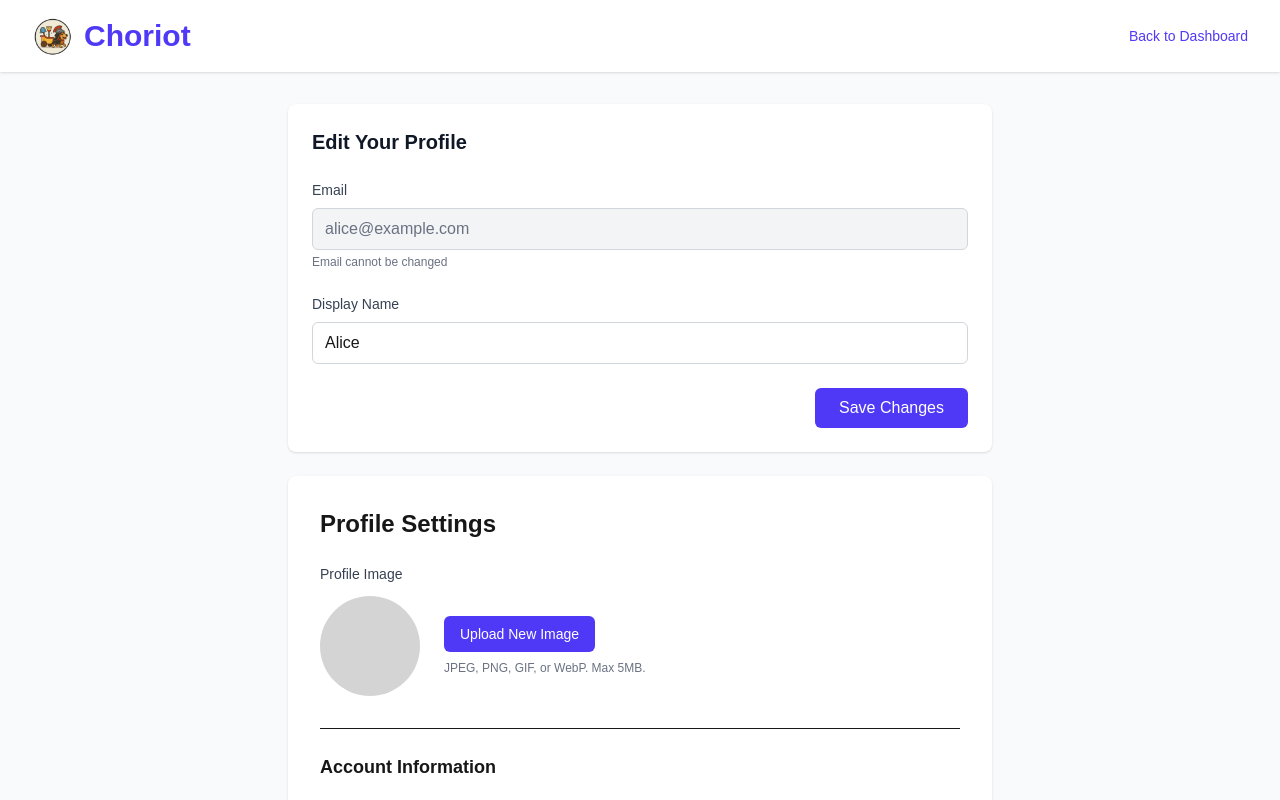
ProfileClient › should submit null when name is empty
Clear the field labelled "Display Name" at (640, 343), box x1=312 y1=322 x2=968 y2=364
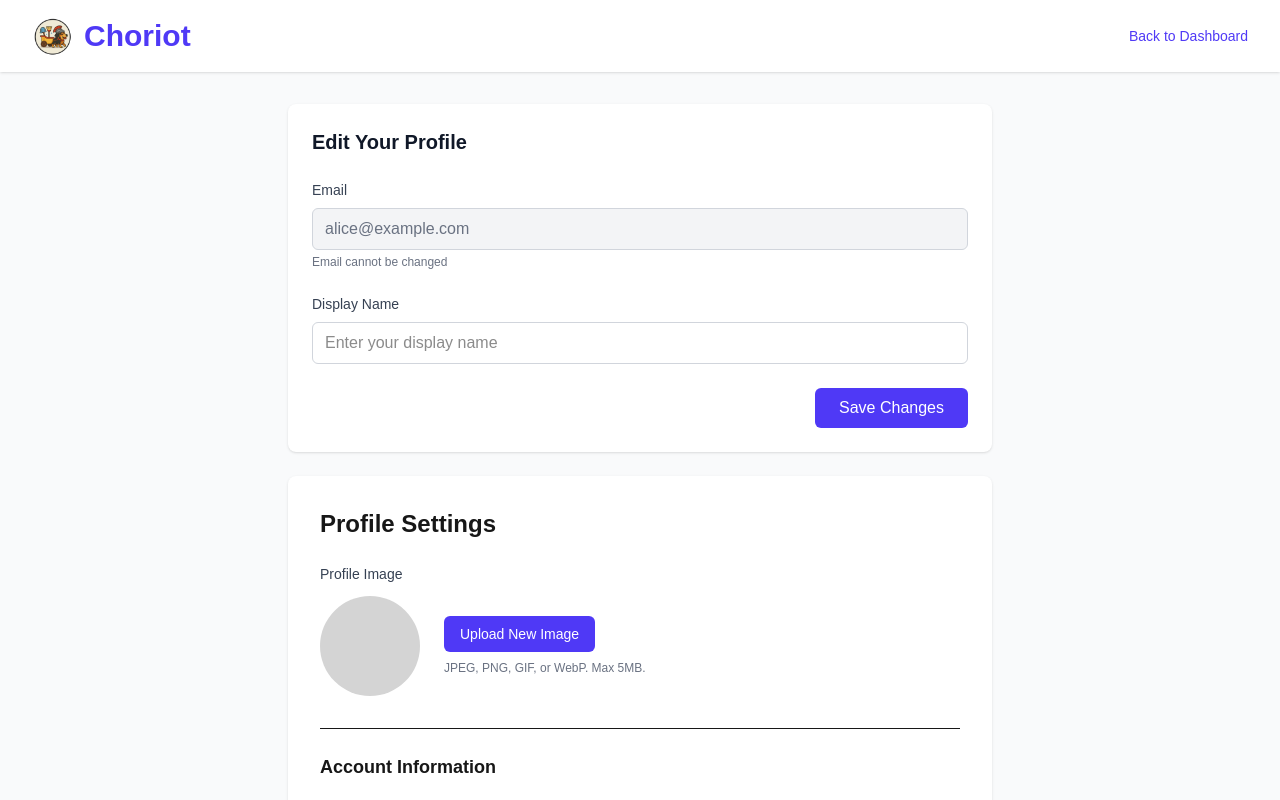
Click the button "Save Changes" at (892, 408), box x1=815 y1=388 x2=968 y2=428
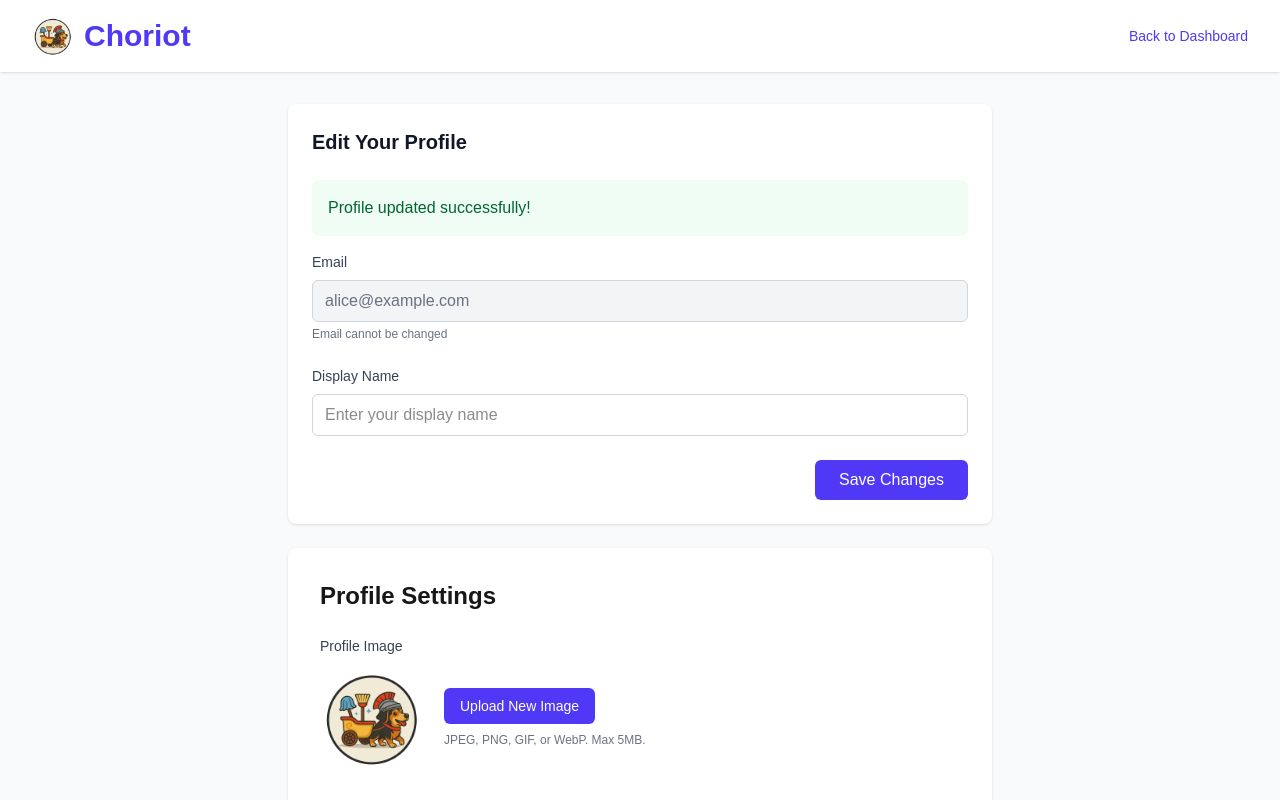
Check: the text "Profile updated successfully!" is shown, box x1=312 y1=180 x2=968 y2=236
